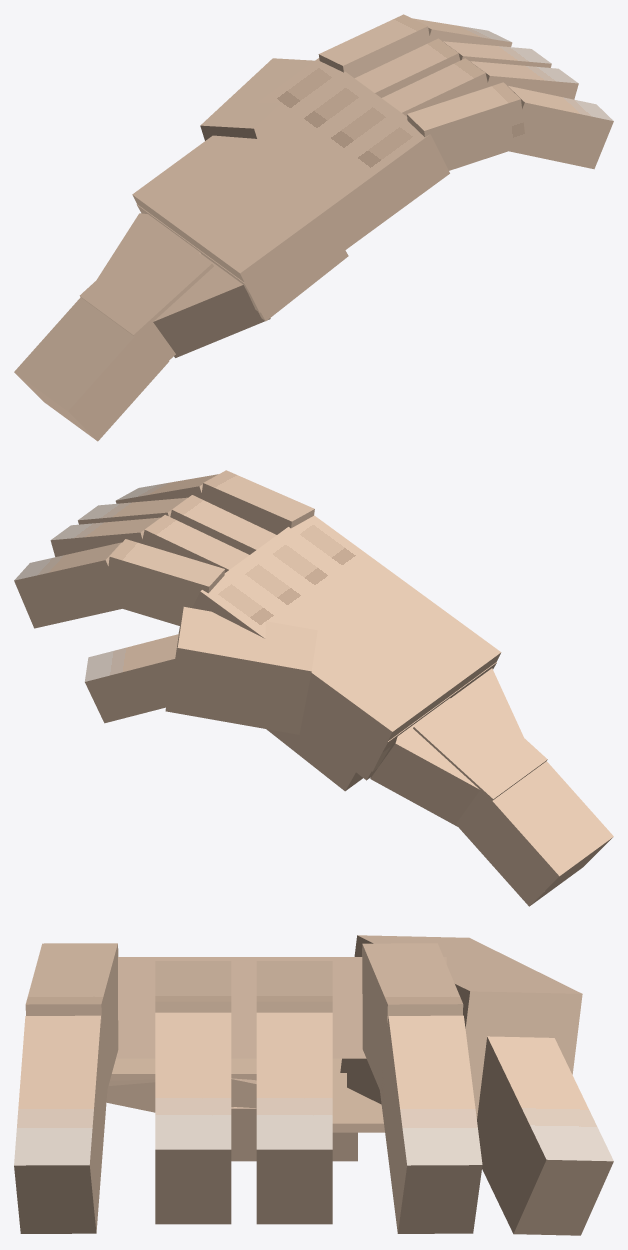
Rendered from hand.glb.
The picture shows the model from 3 angles, top to bottom: view 1: azimuth 30°, elevation 25°; view 2: azimuth 150°, elevation 25°; view 3: azimuth 270°, elevation 25°; orthographic projection. The views are drawn at different scales.
Visible parts, largest first — view 1: group4, group2, group3, group; view 2: group4, group, group3, group2; view 3: group4, group, group3, group2.
Boxes of the visible parts, left/top/right/bottom form: group4: left=14, top=38, right=578, bottom=441; group2: left=407, top=82, right=613, bottom=170; group3: left=318, top=14, right=512, bottom=78; group: left=200, top=58, right=314, bottom=140; group4: left=50, top=495, right=613, bottom=906; group: left=84, top=607, right=317, bottom=734; group3: left=14, top=539, right=224, bottom=628; group2: left=115, top=470, right=314, bottom=534; group4: left=106, top=957, right=446, bottom=1224; group: left=340, top=935, right=613, bottom=1235; group3: left=362, top=943, right=482, bottom=1233; group2: left=14, top=943, right=118, bottom=1233.
Bounding box in the file's own units: 2.74 × 1.4 × 1.48.
1 material, 1 textured.
